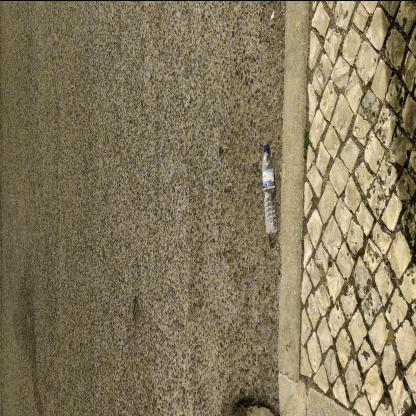plastik: (263, 145, 279, 235)
